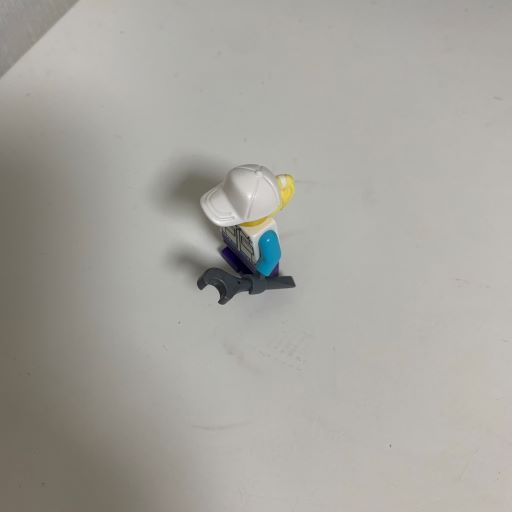human: (178, 159, 315, 312)
